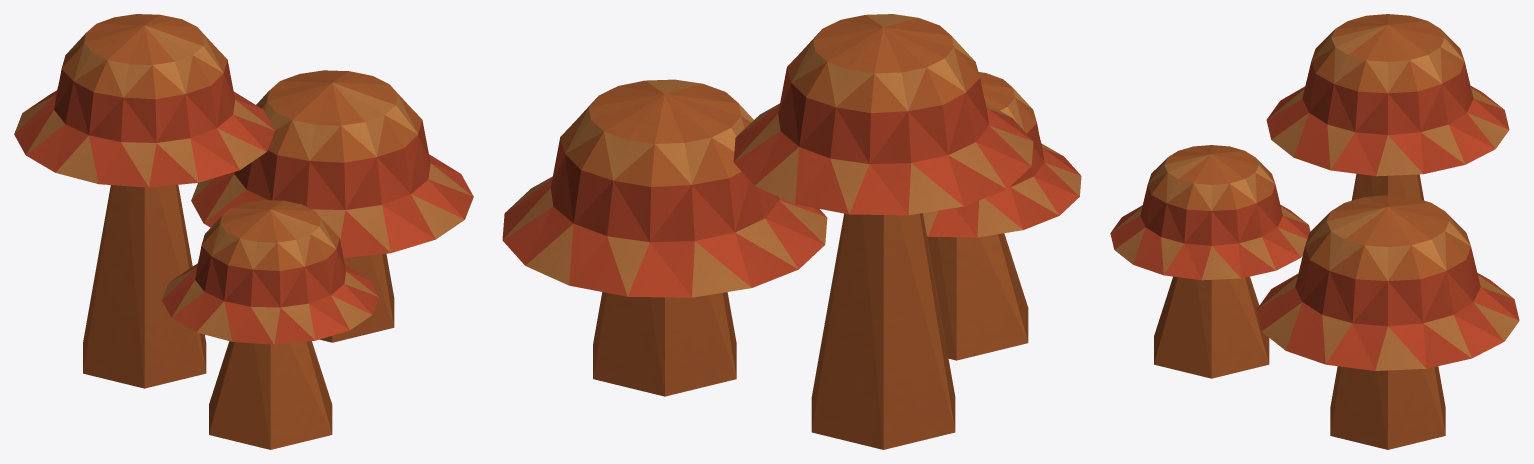
The model's file is Mushroom_Gr_2B.fbx.
3 renders of one model, left to right at view 1: azimuth 30°, elevation 25°; view 2: azimuth 150°, elevation 25°; view 3: azimuth 270°, elevation 25°, orthographic. The views are drawn at different scales.
Visible parts, largest first — view 1: polySurface699; view 2: polySurface699; view 3: polySurface699.
Boxes of the visible parts, x1,y1,x2,y2 form: polySurface699: (14, 14, 473, 449); polySurface699: (502, 14, 1081, 449); polySurface699: (1110, 14, 1519, 449).
Bounding box in the file's own units: 296 × 223 × 266.
Materials: 1 (1 with a texture image).
